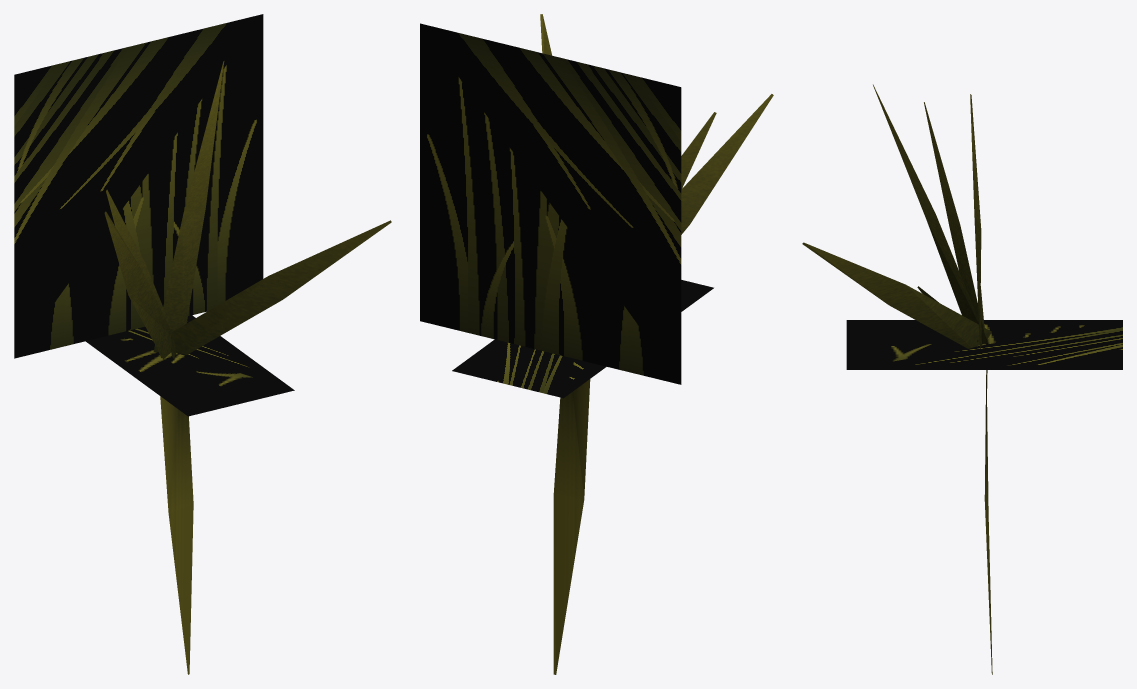
The model's file is grass.glb.
3 views of the same model, side by side, from view 1: azimuth 30°, elevation 25°; view 2: azimuth 150°, elevation 25°; view 3: azimuth 270°, elevation 25° (orthographic). The views are drawn at different scales.
Visible parts, largest first — view 1: grass_impostor, tuft_tall; view 2: grass_impostor, tuft_tall; view 3: grass_impostor, tuft_tall.
Boxes of the visible parts, x1,y1,x2,y2 form: grass_impostor: (14, 14, 294, 416); tuft_tall: (104, 61, 391, 674); grass_impostor: (420, 23, 713, 398); tuft_tall: (540, 14, 773, 674); grass_impostor: (846, 320, 1122, 369); tuft_tall: (802, 84, 992, 674).
Bounding box in the file's own units: 0.2827 × 0.6615 × 0.3253.
2 materials, 2 textured.
